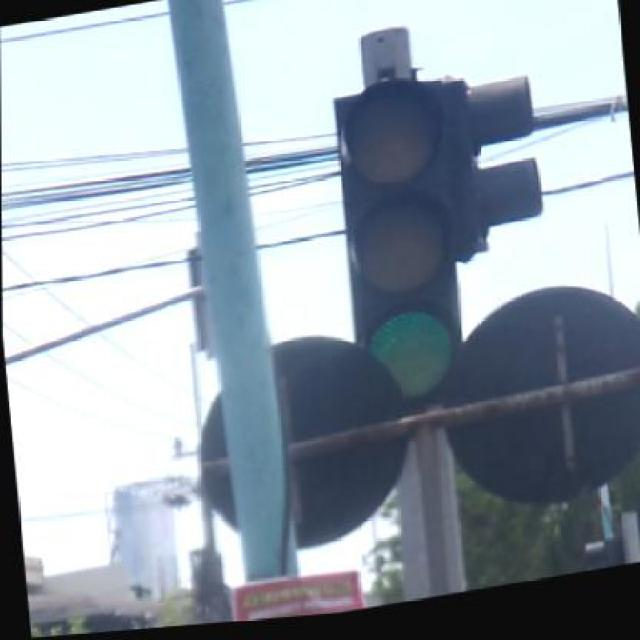green_light: (335, 81, 474, 418)
